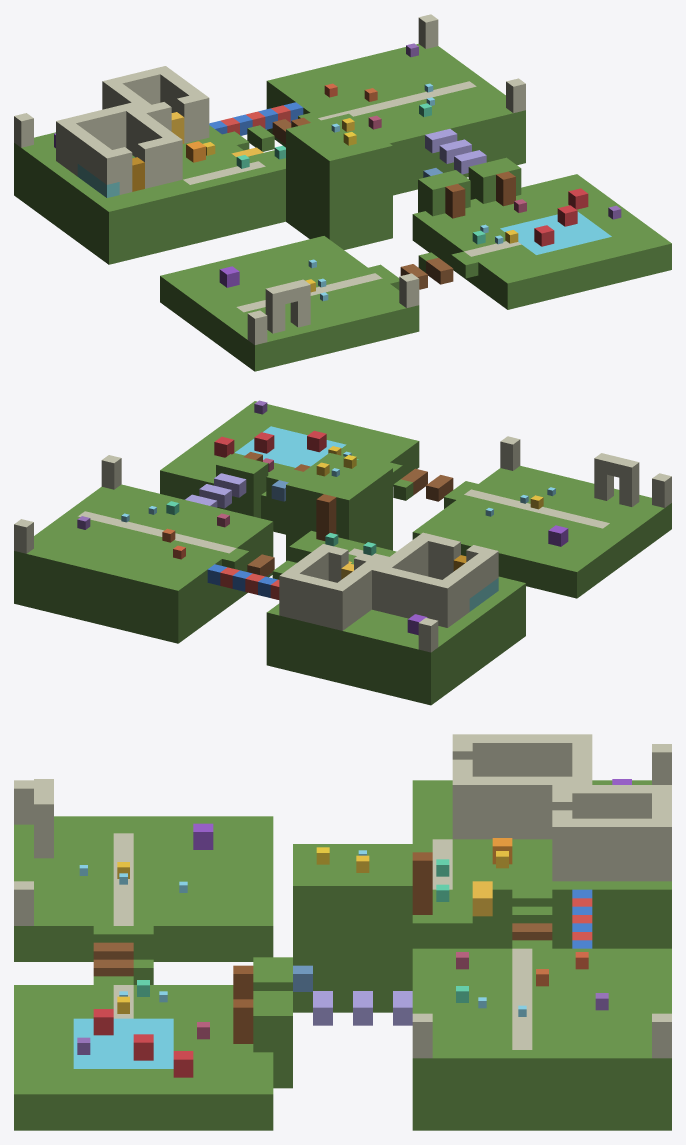
The model's file is course-3.obj.
The picture shows the model from 3 angles, top to bottom: view 1: azimuth 30°, elevation 25°; view 2: azimuth 150°, elevation 25°; view 3: azimuth 270°, elevation 25°; orthographic projection. The views are drawn at different scales.
Size of the model in its own units: 11 by 2.61 by 11.
Materials: 1 (1 with a texture image).
